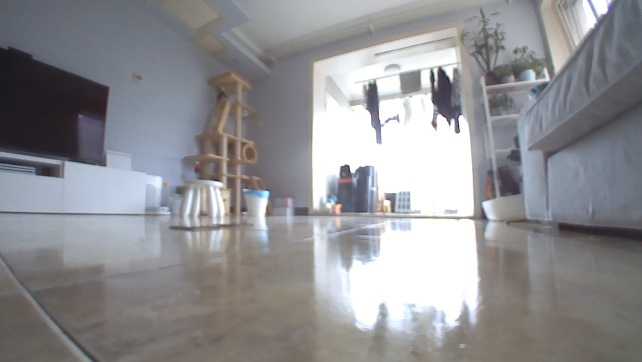TV_stand1: (0, 144, 149, 220)
sofa1: (510, 0, 641, 241)
